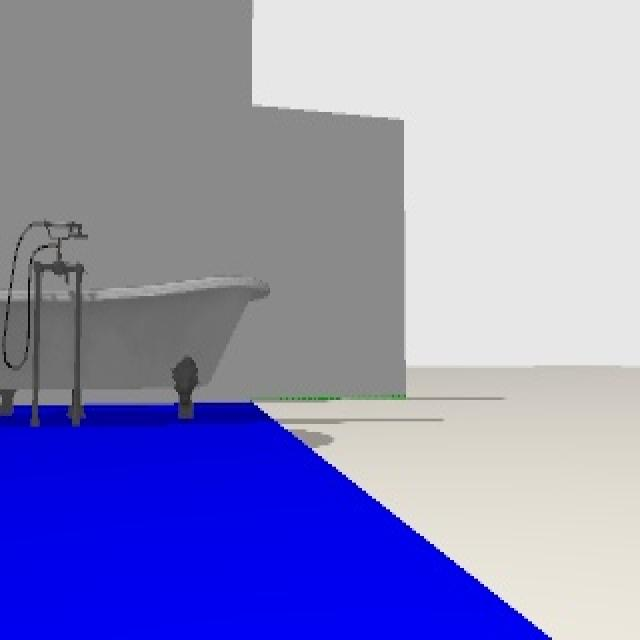bathtub: (0, 224, 270, 424)
